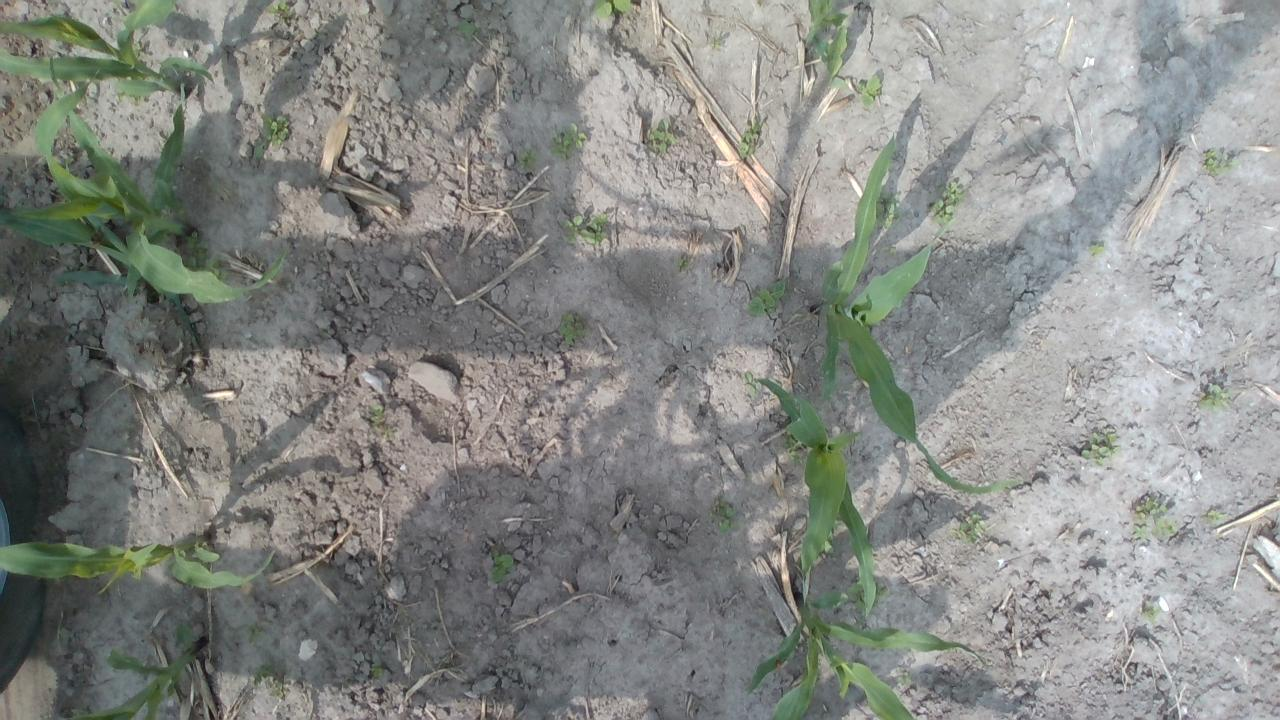Maize: (808, 131, 1022, 496), (2, 68, 288, 336), (745, 593, 990, 720), (756, 378, 878, 622), (1, 0, 217, 102), (0, 532, 276, 597), (68, 620, 212, 720), (798, 0, 849, 85)
Weeds: (188, 232, 229, 278), (253, 116, 290, 160), (1081, 430, 1120, 466), (563, 214, 609, 244), (550, 124, 588, 160), (749, 280, 786, 316), (252, 660, 284, 698), (847, 581, 884, 612), (958, 510, 988, 546), (1198, 383, 1232, 414), (710, 498, 740, 532), (558, 312, 588, 346), (1202, 148, 1238, 176), (648, 120, 678, 153), (875, 195, 903, 228), (371, 405, 397, 438), (858, 74, 884, 106), (490, 550, 514, 584), (740, 123, 761, 158), (1134, 499, 1167, 521), (594, 0, 630, 19), (782, 432, 802, 464), (932, 199, 955, 226), (940, 181, 964, 204), (267, 0, 296, 19), (1151, 520, 1177, 540), (1142, 600, 1162, 626), (244, 625, 267, 645), (518, 149, 538, 169), (895, 668, 913, 688), (458, 19, 477, 37), (744, 372, 759, 394), (1206, 508, 1226, 524), (1088, 242, 1106, 257), (371, 663, 386, 679), (1132, 524, 1147, 538), (676, 258, 688, 273), (710, 38, 725, 50)
